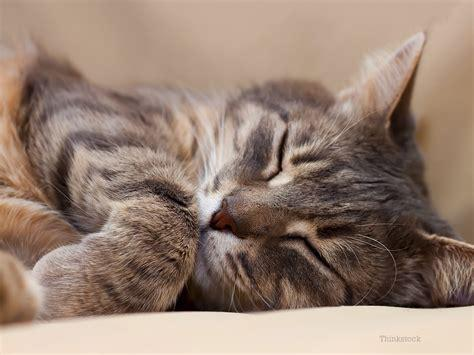cat: (2, 35, 473, 319)
